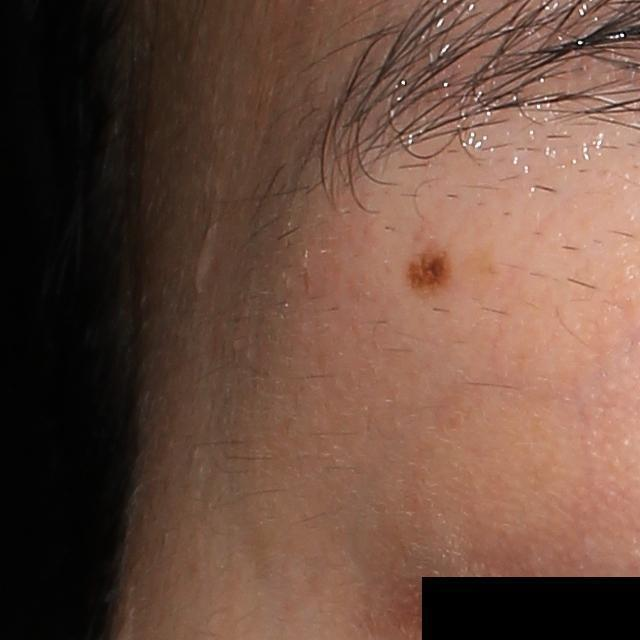nevus: (402, 239, 456, 299)
